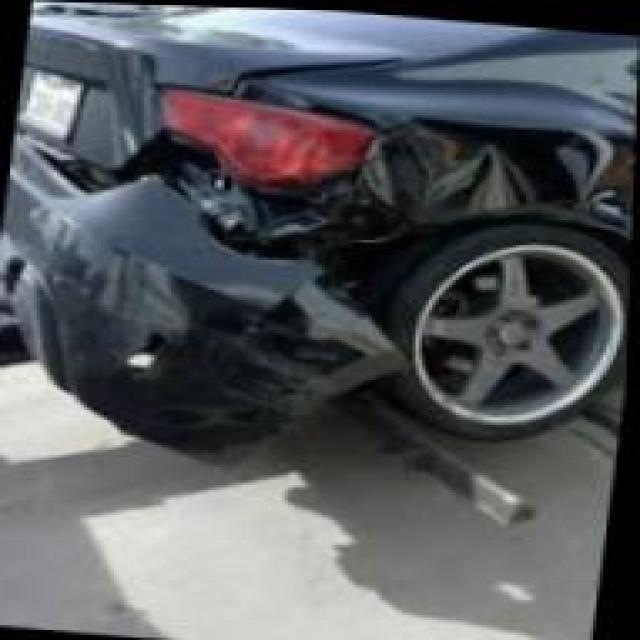Bumper: (7, 200, 304, 403)
Fender: (399, 112, 606, 220)
